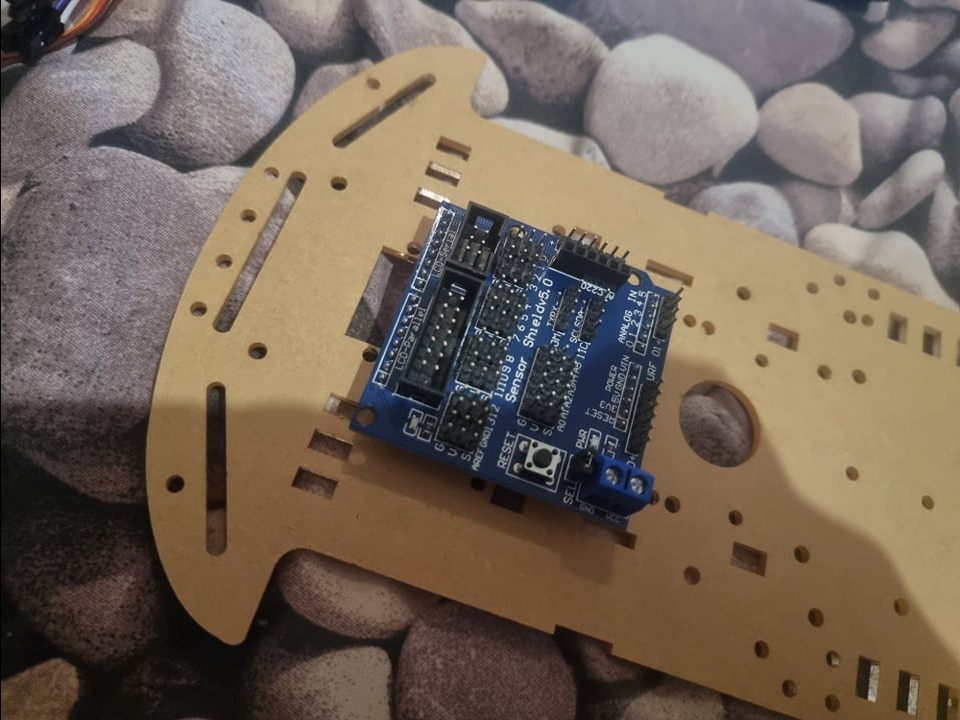5V EXPANSION: (344, 198, 685, 528)
